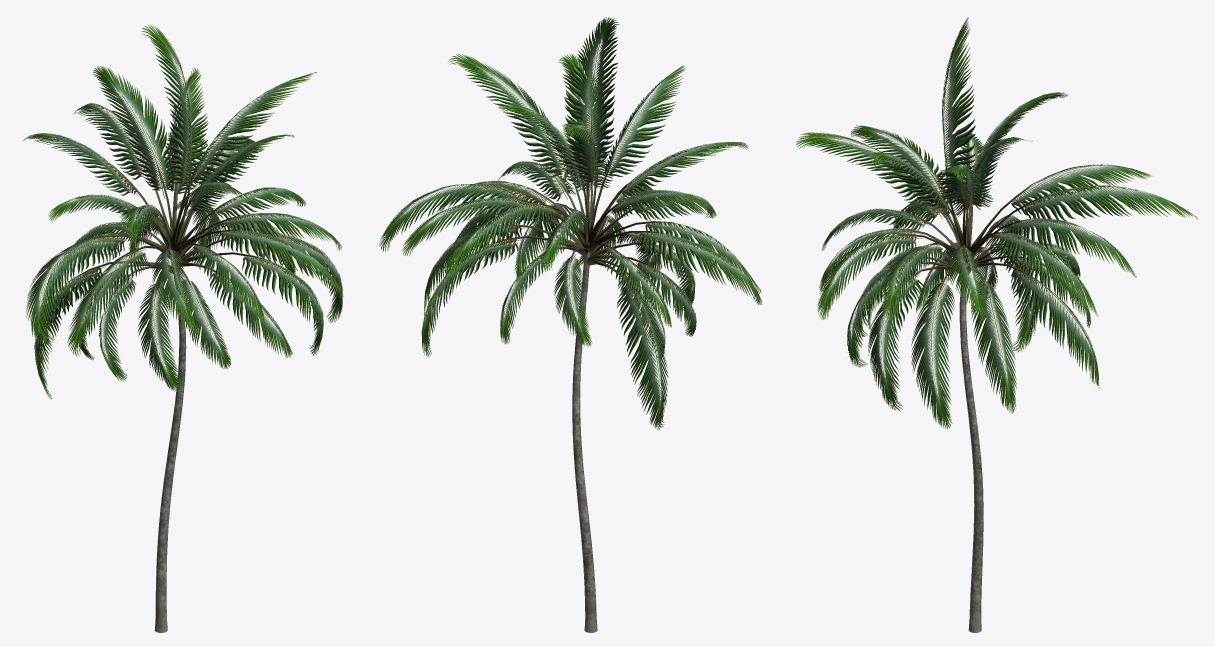
Rendered from tree14.fbx.
The picture shows the model from 3 angles, left to right: view 1: azimuth 30°, elevation 25°; view 2: azimuth 150°, elevation 25°; view 3: azimuth 270°, elevation 25°; orthographic projection.
Visible parts, largest first — view 1: SM_MZRa_Palm_B083; view 2: SM_MZRa_Palm_B083; view 3: SM_MZRa_Palm_B083.
Boxes of the visible parts, x1,y1,x2,y2 form: SM_MZRa_Palm_B083: (22,24,343,632); SM_MZRa_Palm_B083: (379,17,762,632); SM_MZRa_Palm_B083: (796,17,1197,632).
Size of the model in its own units: 306 by 571 by 346.
